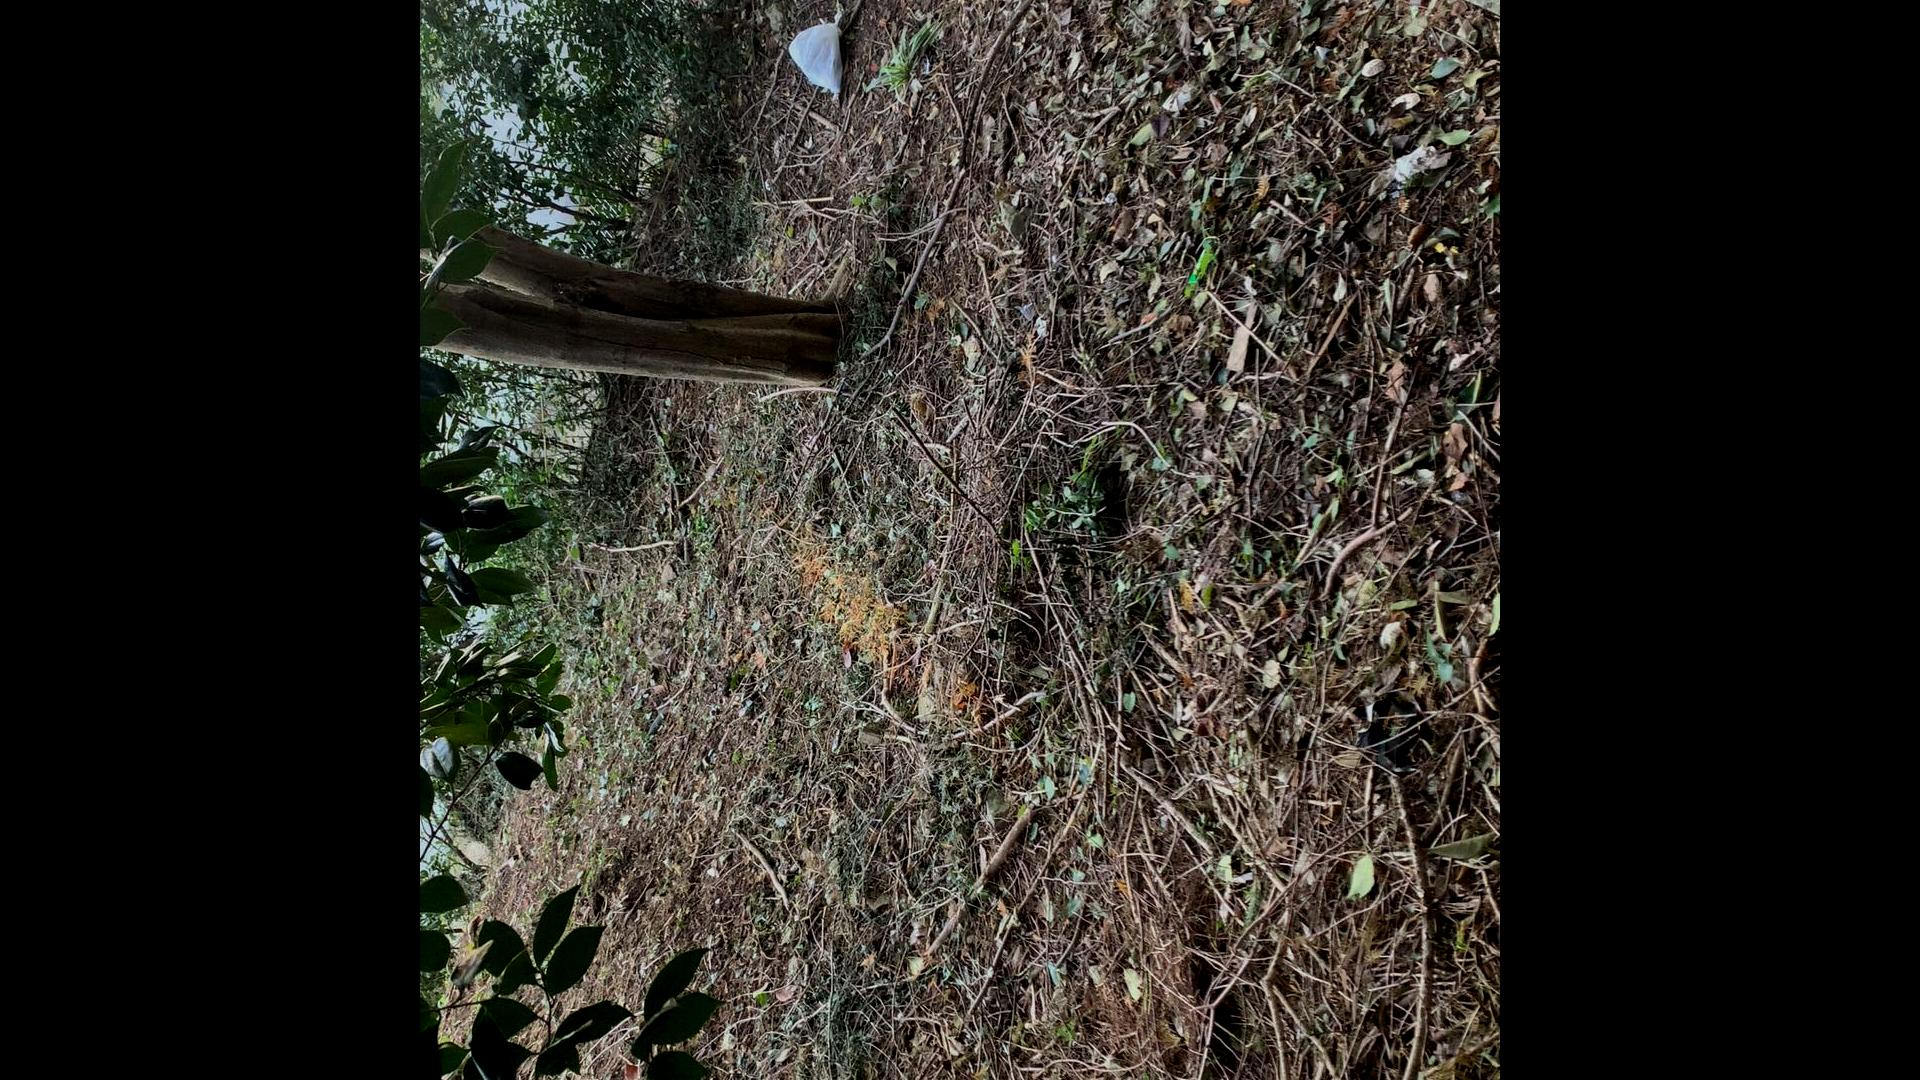white_bag: (789, 11, 855, 107)
